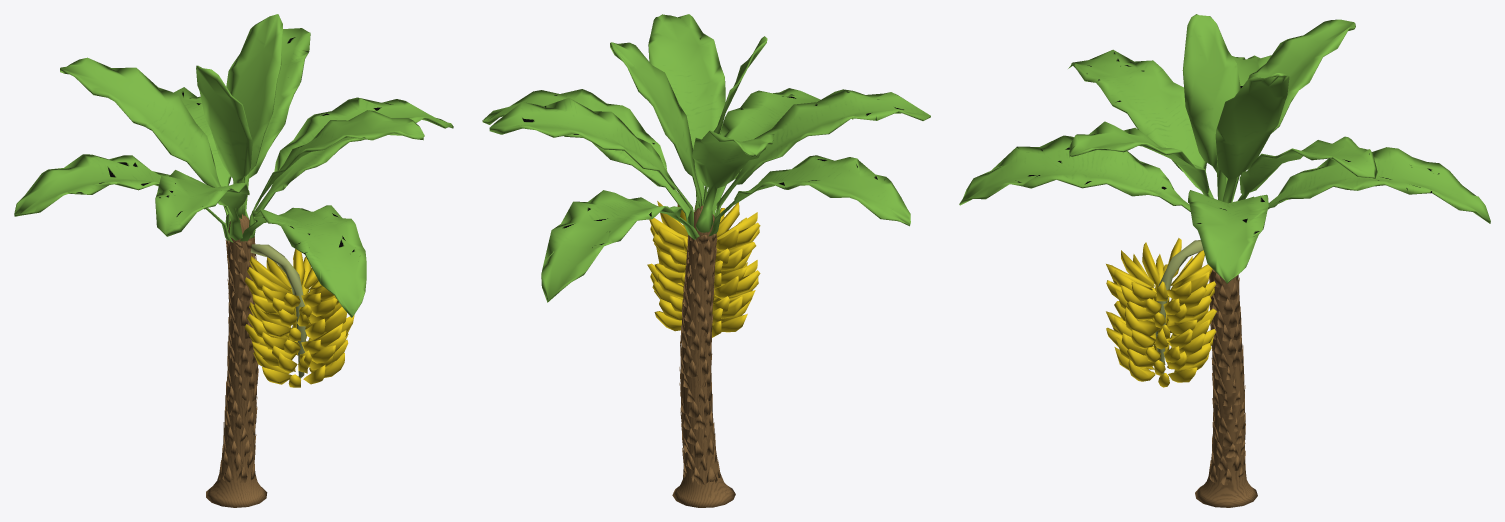
The model's file is ArbolPlatano.fbx.
The picture shows the model from 3 angles, left to right: view 1: azimuth 30°, elevation 25°; view 2: azimuth 150°, elevation 25°; view 3: azimuth 270°, elevation 25°; orthographic projection.
Parts seen in each view (by area): view 1: Tallo_Arbol.001; view 2: Tallo_Arbol.001; view 3: Tallo_Arbol.001.
Boxes of the visible parts, left/top/right/bottom form: Tallo_Arbol.001: left=14, top=14, right=453, bottom=507; Tallo_Arbol.001: left=482, top=14, right=930, bottom=507; Tallo_Arbol.001: left=959, top=14, right=1490, bottom=507.
Size of the model in its own units: 345 by 345 by 364.
4 materials, 4 textured.
